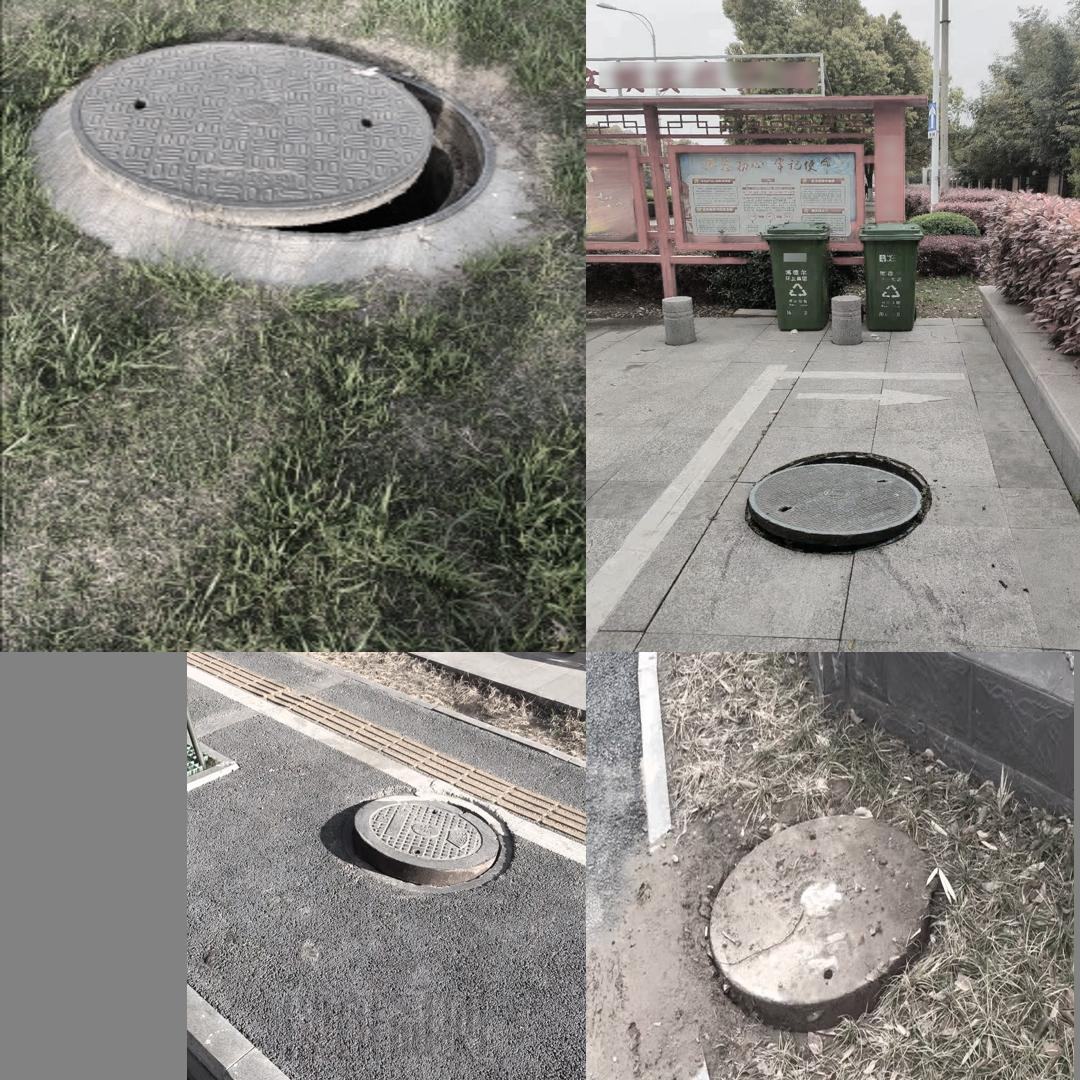uncovered: (62, 35, 500, 243), (708, 814, 932, 1037), (744, 451, 934, 554), (354, 796, 512, 890)
